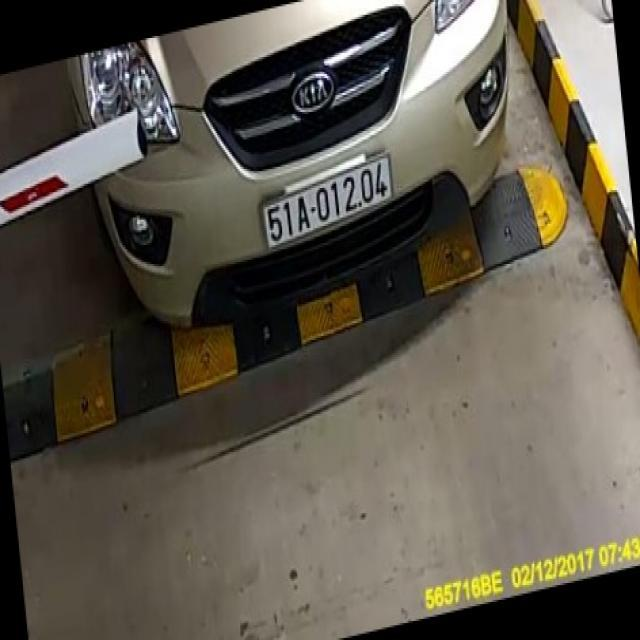car: (66, 0, 522, 335)
plate: (255, 154, 401, 250)
